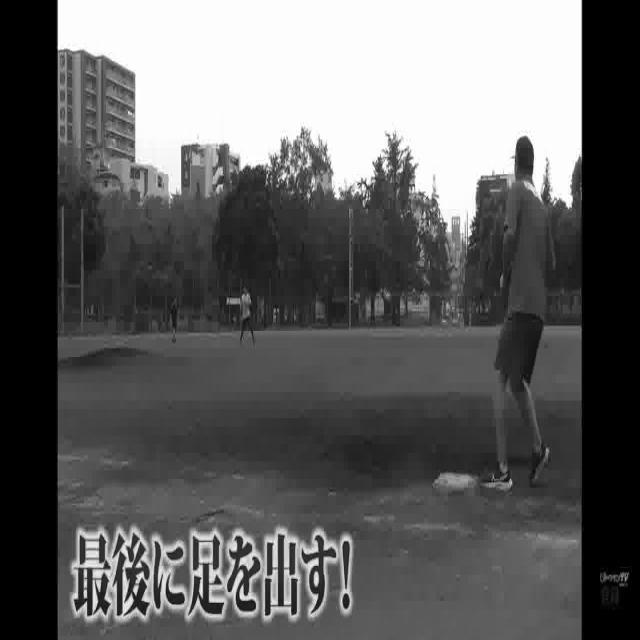base: (432, 468, 479, 496)
shoe: (480, 470, 519, 498), (528, 445, 549, 485)
